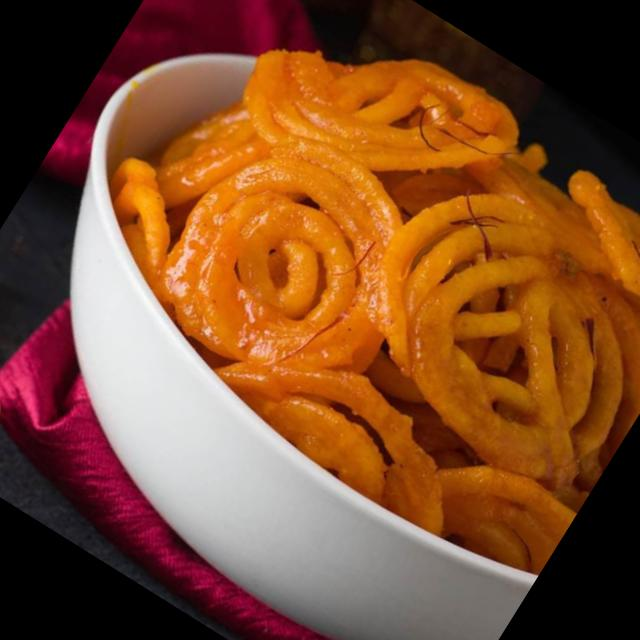jalebi: (66, 0, 640, 595)
